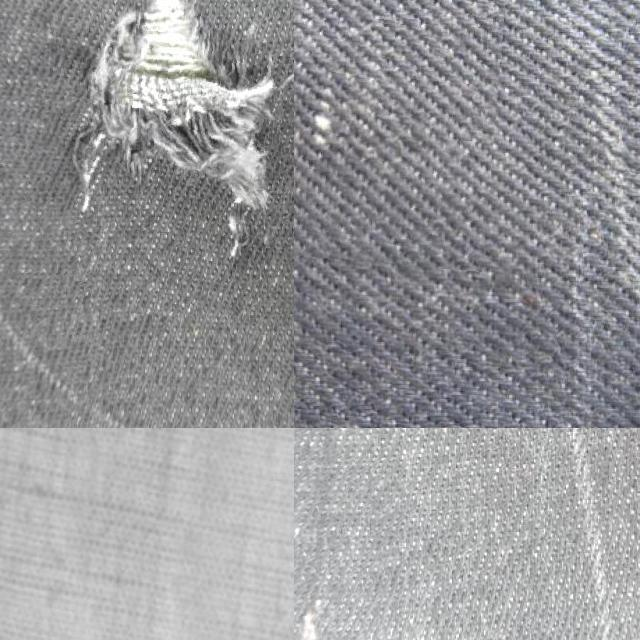stains: (294, 0, 500, 267), (294, 428, 410, 640)
